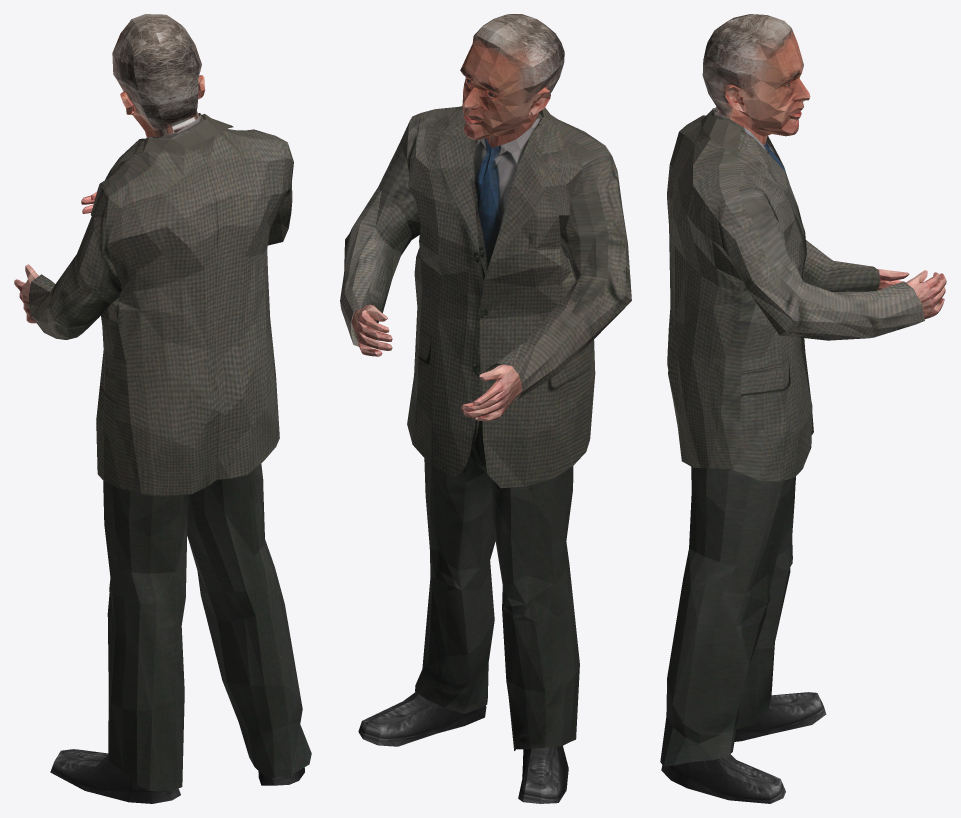
File: man_professor.dae
3 views of the same model, side by side, from view 1: azimuth 30°, elevation 25°; view 2: azimuth 150°, elevation 25°; view 3: azimuth 270°, elevation 25° (orthographic). The views are drawn at different scales.
Visible parts, largest first — view 1: node; view 2: node; view 3: node.
Boxes of the visible parts, x1=… form: node: x1=14, y1=14, x2=311, y2=803; node: x1=340, y1=14, x2=631, y2=803; node: x1=660, y1=14, x2=946, y2=803.
Bounding box in the file's own units: 16.29 × 45.32 × 16.23.
1 material, 1 textured.
